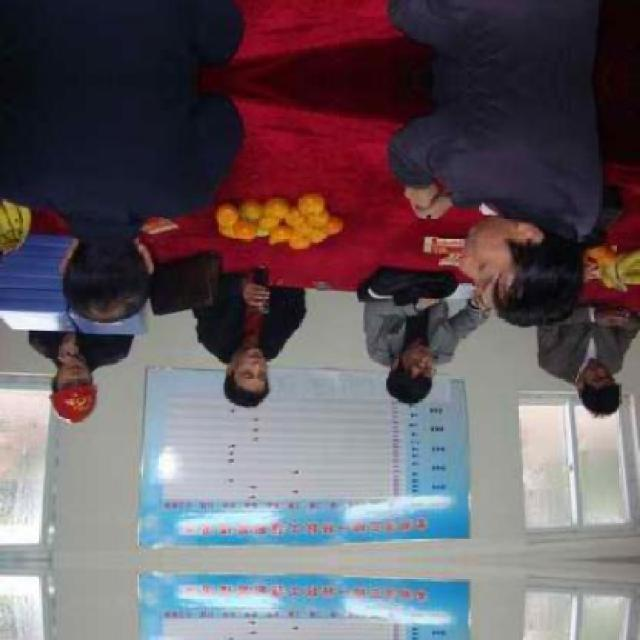sin casco: (422, 226, 624, 328), (520, 353, 636, 432), (205, 326, 305, 411), (14, 352, 109, 441), (34, 266, 154, 324), (390, 345, 443, 405)
